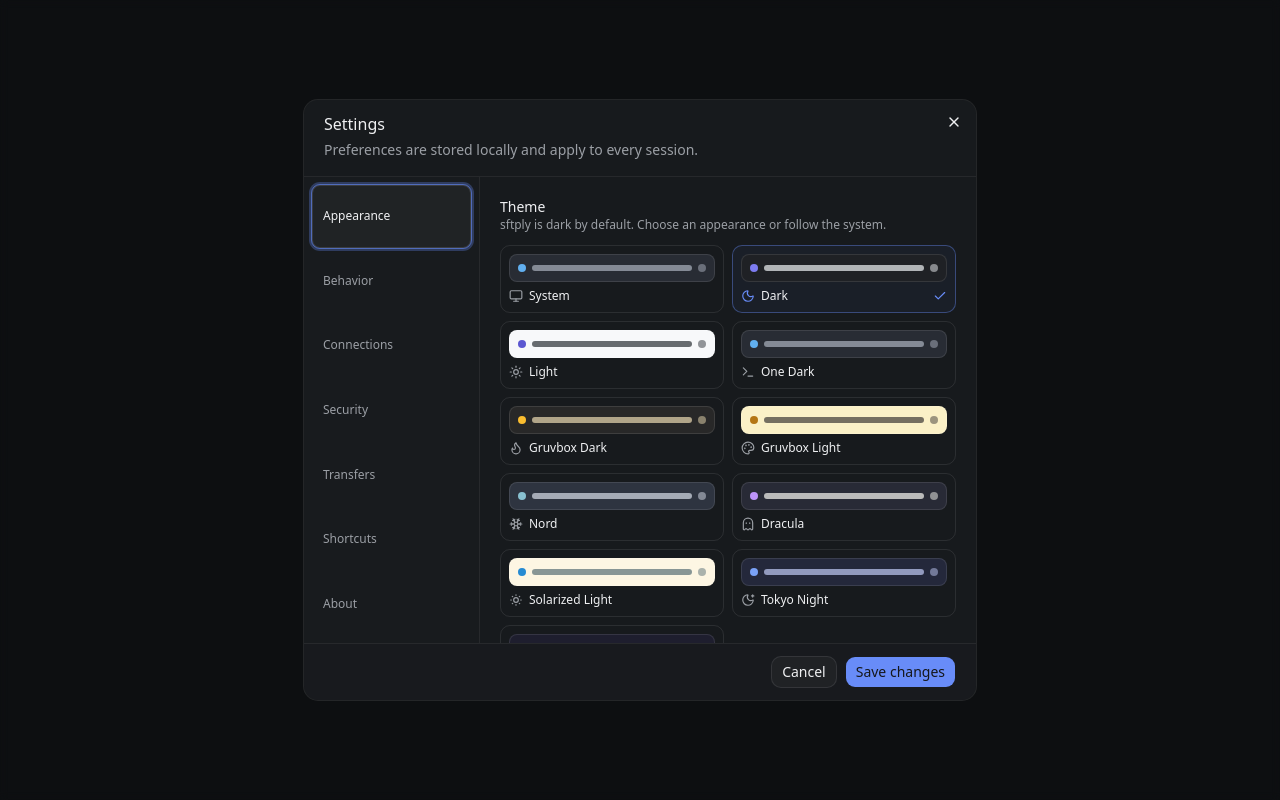
Test: SettingsDialog › lists the keyboard shortcuts with platform labels
Step 1. Click the tab "Shortcuts" → (392, 539), box x1=312 y1=508 x2=471 y2=570
(page scrolled)
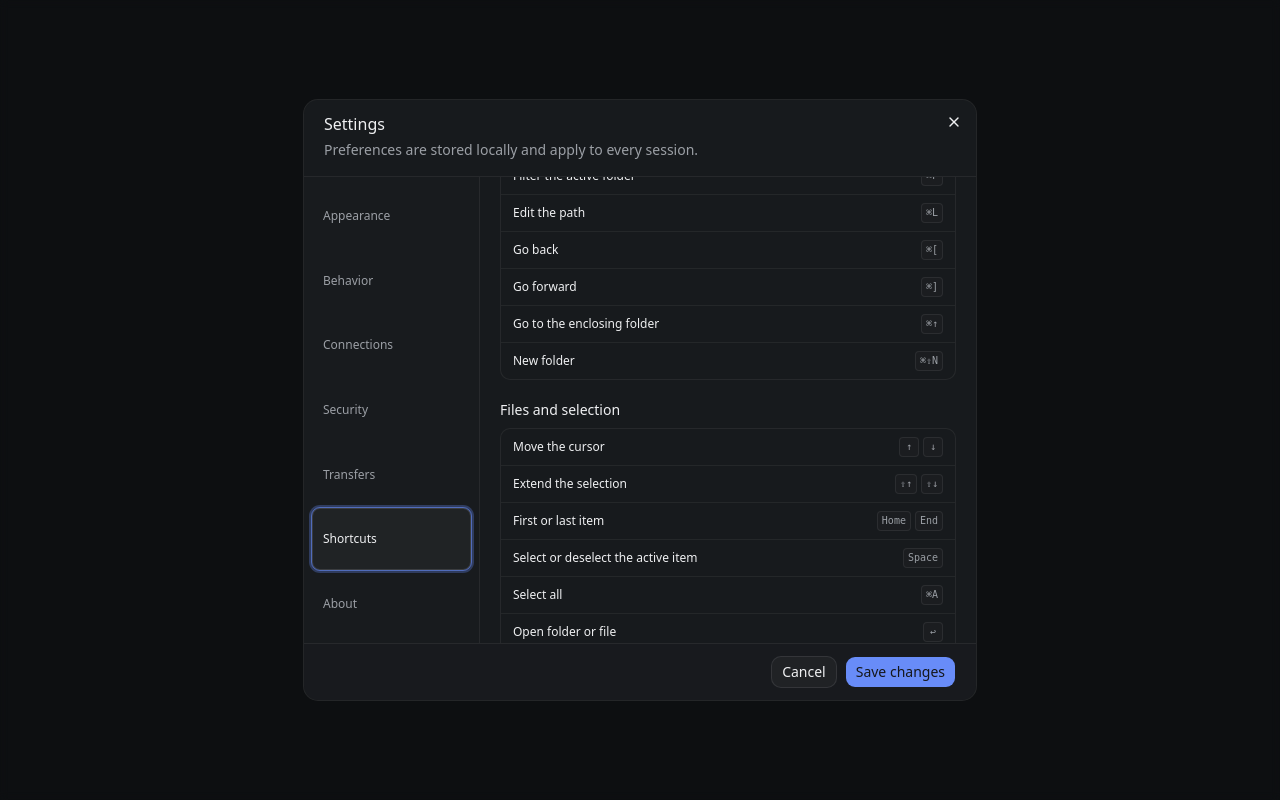
Expected: the heading "Files and selection" is shown, x1=500 y1=400 x2=620 y2=418
